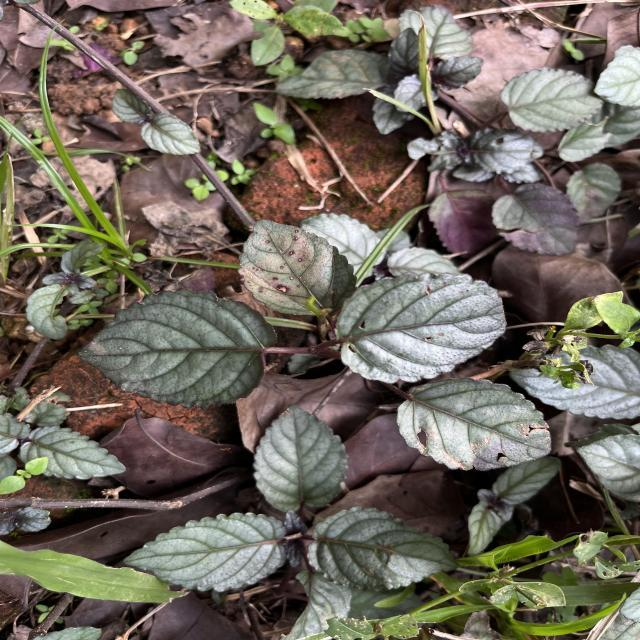Hemigraphis colorata: (76, 284, 282, 412), (332, 268, 510, 385), (394, 376, 554, 474), (304, 502, 466, 594), (120, 510, 292, 595), (236, 217, 361, 318), (250, 399, 350, 514), (498, 65, 607, 135), (16, 422, 128, 483)
